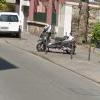Motorcycle: (29, 23, 84, 61)
